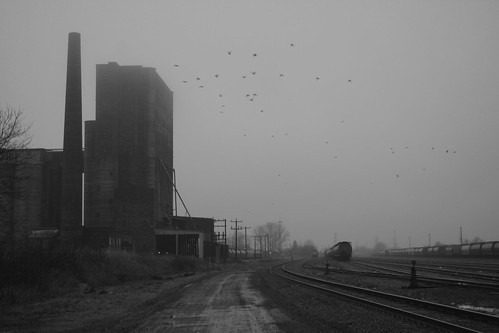building: (82, 62, 175, 241), (153, 216, 222, 262)
chimney: (53, 24, 85, 253)
sky: (185, 1, 499, 212)
train track: (273, 262, 499, 333)
